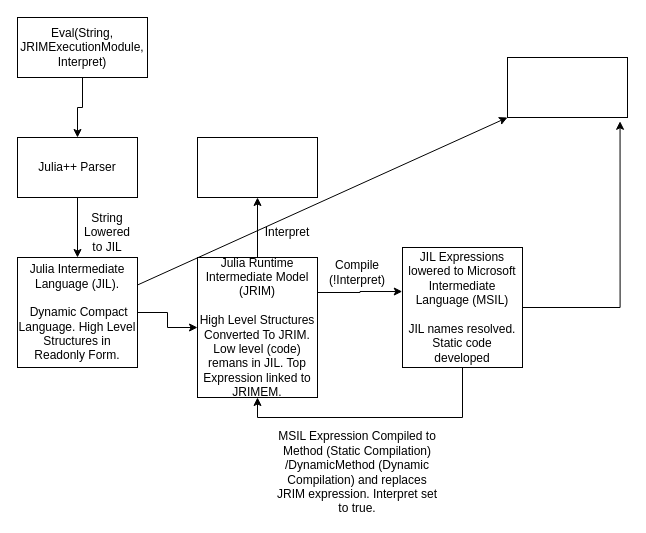
Image size: 646x533. Some labels were removed from this diagram. Here are the shapes that lost their labels. From the top down, the centre of each, then its label:
At [567,87]: "Cached into .jil file on static compilation or sysimage creation.".
At [257,167]: "Execute JRIM".
